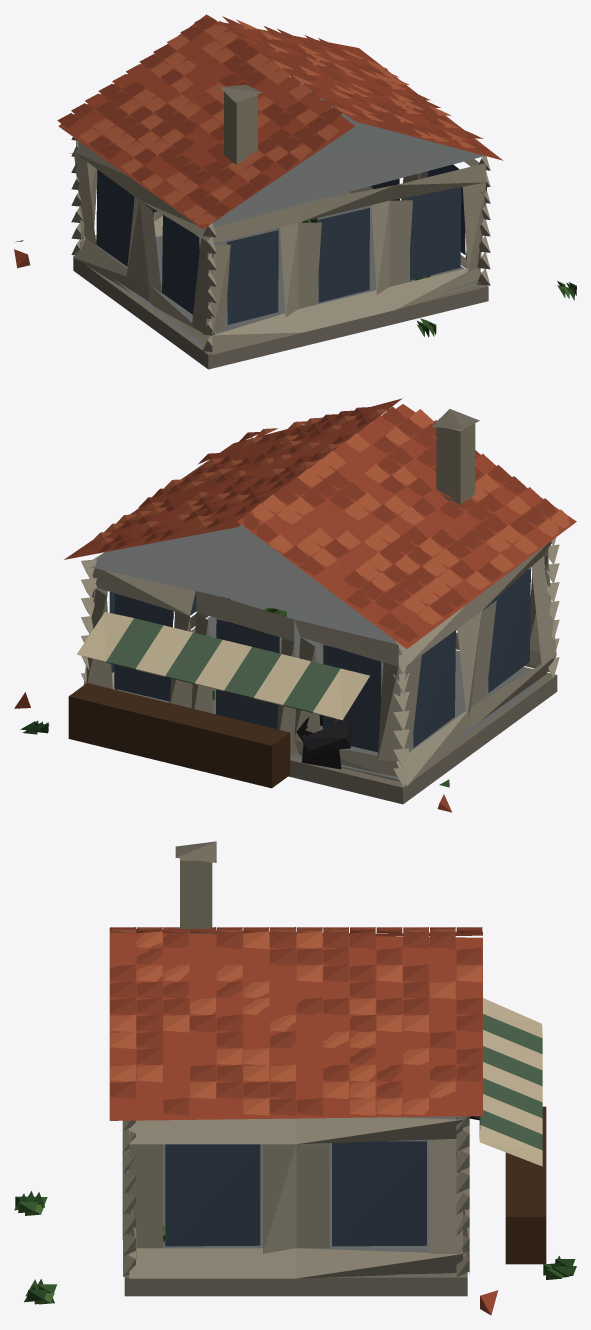
The model's file is bakery.glb.
3 views of the same model, one above another, from view 1: azimuth 30°, elevation 25°; view 2: azimuth 150°, elevation 25°; view 3: azimuth 270°, elevation 25° (orthographic). The views are drawn at different scales.
Size of the model in its own units: 5.52 by 3.33 by 5.47.
